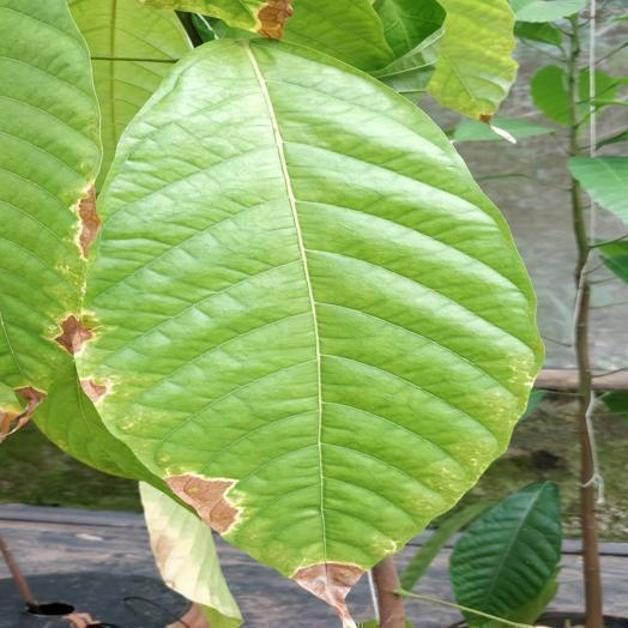Potassium: (75, 39, 542, 625), (0, 0, 101, 438)
